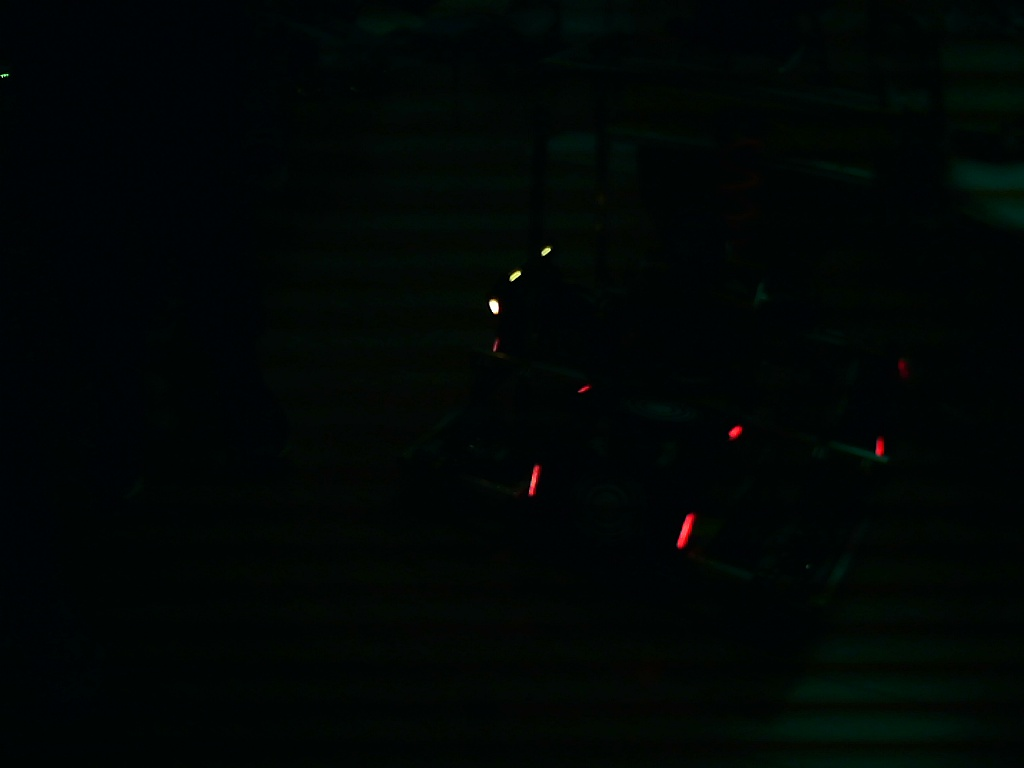lamp: (670, 508, 696, 551), (525, 459, 544, 501)
